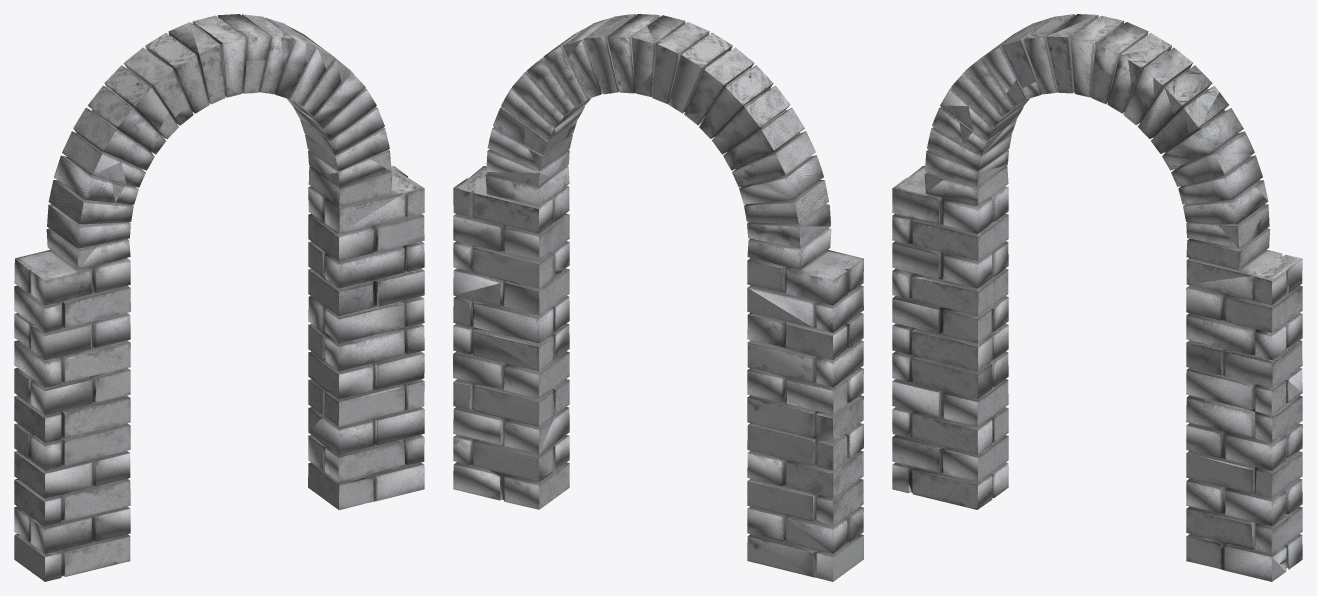
Rendered from ArcheCouloir.fbx.
The picture shows the model from 3 angles, left to right: view 1: azimuth 30°, elevation 25°; view 2: azimuth 150°, elevation 25°; view 3: azimuth 330°, elevation 25°; orthographic projection.
Visible parts, largest first — view 1: Mesh_0; view 2: Mesh_0; view 3: Mesh_0.
Boxes of the visible parts, box(x1,y1,x2,y2) form: Mesh_0: box(14, 14, 424, 581); Mesh_0: box(453, 14, 863, 581); Mesh_0: box(892, 14, 1302, 581).
Bounding box in the file's own units: 152 × 190 × 21.49.
Materials: 1 (1 with a texture image).
